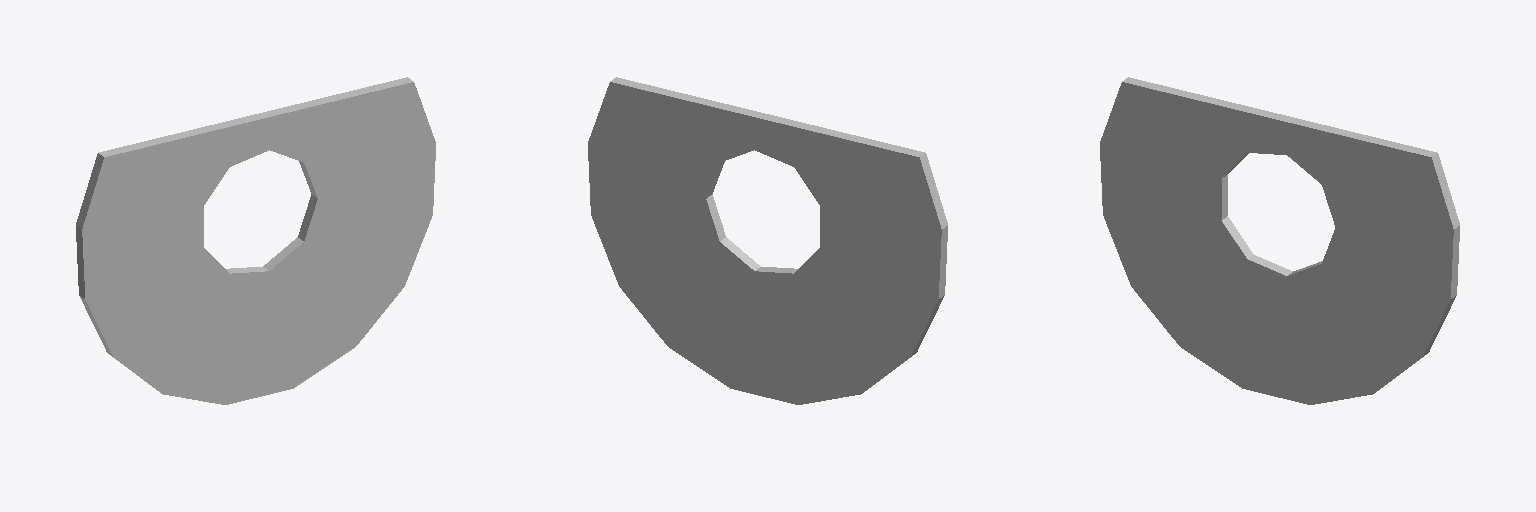
The model's file is 68. Пластина упорная.obj.
3 renders of one model, left to right at view 1: azimuth 30°, elevation 25°; view 2: azimuth 150°, elevation 25°; view 3: azimuth 330°, elevation 25°, orthographic.
Parts seen in each view (by area): view 1: Твердое тело1; view 2: Твердое тело1; view 3: Твердое тело1.
Boxes of the visible parts, x1,y1,x2,y2 form: Твердое тело1: [76, 77, 435, 404]; Твердое тело1: [588, 77, 947, 404]; Твердое тело1: [1100, 77, 1459, 404].
Size of the model in its own units: 31.67 by 23.71 by 1.